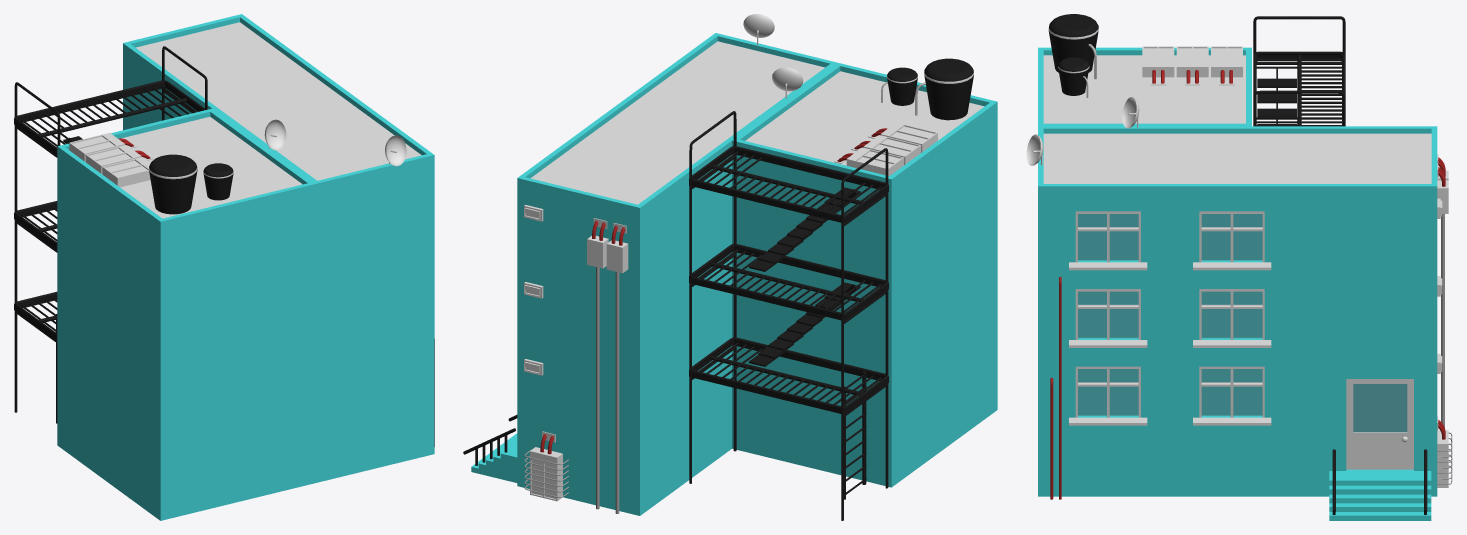
File: House9.fbx
3 views of the same model, side by side, from view 1: azimuth 30°, elevation 25°; view 2: azimuth 150°, elevation 25°; view 3: azimuth 270°, elevation 25° (orthographic). The views are drawn at different scales.
Parts seen in each view (by area): view 1: pCube76, House8:pCube71, House7:curve13, pCube80, House8:pCylinder13, pCylinder41, pCylinder40, House8:House7:House6:pCylinder40; view 2: House8:pCube71, pCube76, House7:curve13, pCube80, House8:pCylinder13, House8:House6:pCube70, pCube75, House8:pCylinder15, pCylinder41, House8:pCylinder16, House8:pCube75, pCylinder40 (+2 smaller); view 3: House8:pCube71, pCube76, House7:curve13, House8:pCube69, House8:House6:pCube70, House8:polySurface14, House8:polySurface16, House8:House7:House6:polySurface12, House8:polySurface13, House8:polySurface15, House8:polySurface17, pCube80 (+6 smaller).
Boxes of the visible parts, x1,y1,x2,y2 form: pCube76: [57, 108, 315, 520]; House8:pCube71: [123, 14, 434, 482]; House7:curve13: [14, 46, 207, 423]; pCube80: [69, 132, 153, 187]; House8:pCylinder13: [148, 154, 197, 214]; pCylinder41: [203, 163, 233, 200]; pCylinder40: [264, 119, 286, 150]; House8:House7:House6:pCylinder40: [385, 135, 406, 166]; House8:pCube71: [517, 33, 837, 515]; pCube76: [732, 63, 997, 487]; House7:curve13: [689, 111, 888, 520]; pCube80: [834, 122, 937, 175]; House8:pCylinder13: [915, 58, 973, 120]; House8:House6:pCube70: [463, 415, 517, 482]; pCube75: [530, 431, 562, 501]; House8:pCylinder15: [615, 272, 619, 513]; pCylinder41: [881, 67, 917, 105]; House8:pCylinder16: [596, 267, 599, 509]; House8:pCube75: [606, 240, 628, 273]; pCylinder40: [772, 67, 803, 98]; House8:pCube71: [1038, 126, 1437, 496]; pCube76: [1038, 47, 1251, 126]; House7:curve13: [1253, 16, 1345, 126]; House8:pCube69: [1346, 379, 1413, 469]; House8:House6:pCube70: [1329, 449, 1431, 520]; House8:polySurface14: [1193, 366, 1271, 425]; House8:polySurface16: [1193, 211, 1271, 270]; House8:House7:House6:polySurface12: [1069, 211, 1147, 270]; House8:polySurface13: [1069, 366, 1147, 425]; House8:polySurface15: [1193, 289, 1271, 347]; House8:polySurface17: [1069, 289, 1147, 347]; pCube80: [1142, 46, 1242, 85].
Size of the model in its own units: 13.93 by 13.58 by 14.93.
